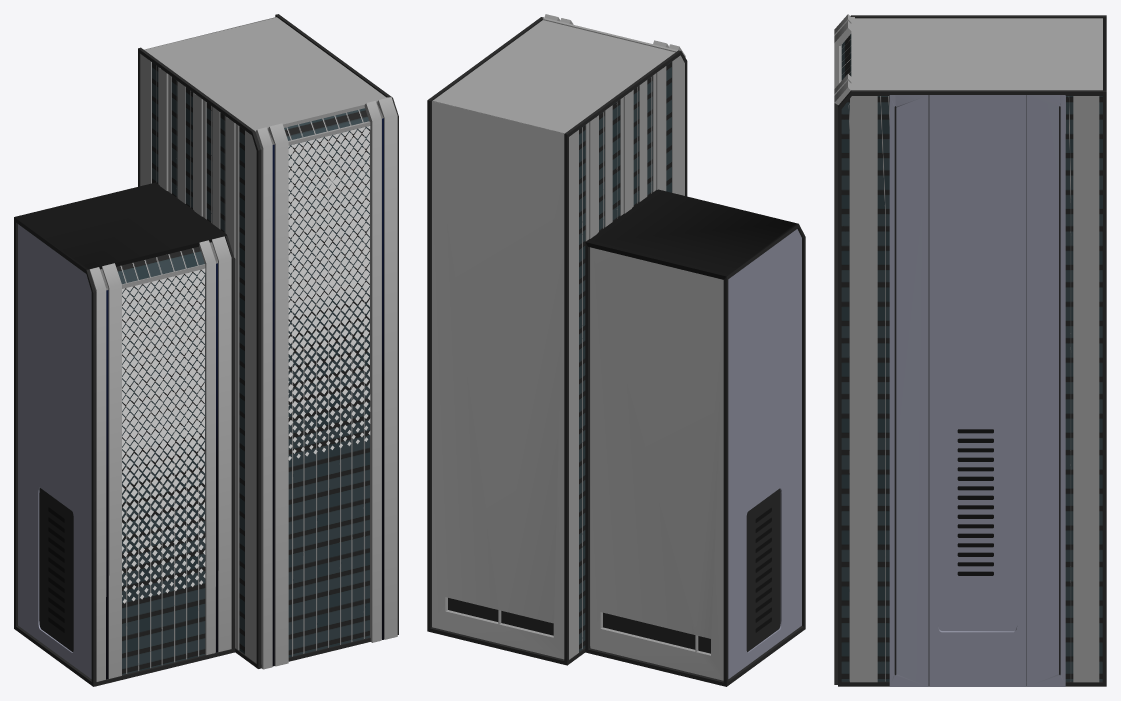
The model's file is Building_007_2st_L0.fbx.
3 renders of one model, left to right at view 1: azimuth 30°, elevation 25°; view 2: azimuth 150°, elevation 25°; view 3: azimuth 270°, elevation 25°, orthographic. The views are drawn at different scales.
Visible parts, largest first — view 1: Building_007_2st_L0; view 2: Building_007_2st_L0; view 3: Building_007_2st_L0.
Part boxes in pixels (left/top/right/bottom): Building_007_2st_L0: left=14, top=14, right=398, bottom=686; Building_007_2st_L0: left=427, top=14, right=805, bottom=686; Building_007_2st_L0: left=834, top=14, right=1106, bottom=686.
Bounding box in the file's own units: 47.3 × 85.5 × 35.3.
